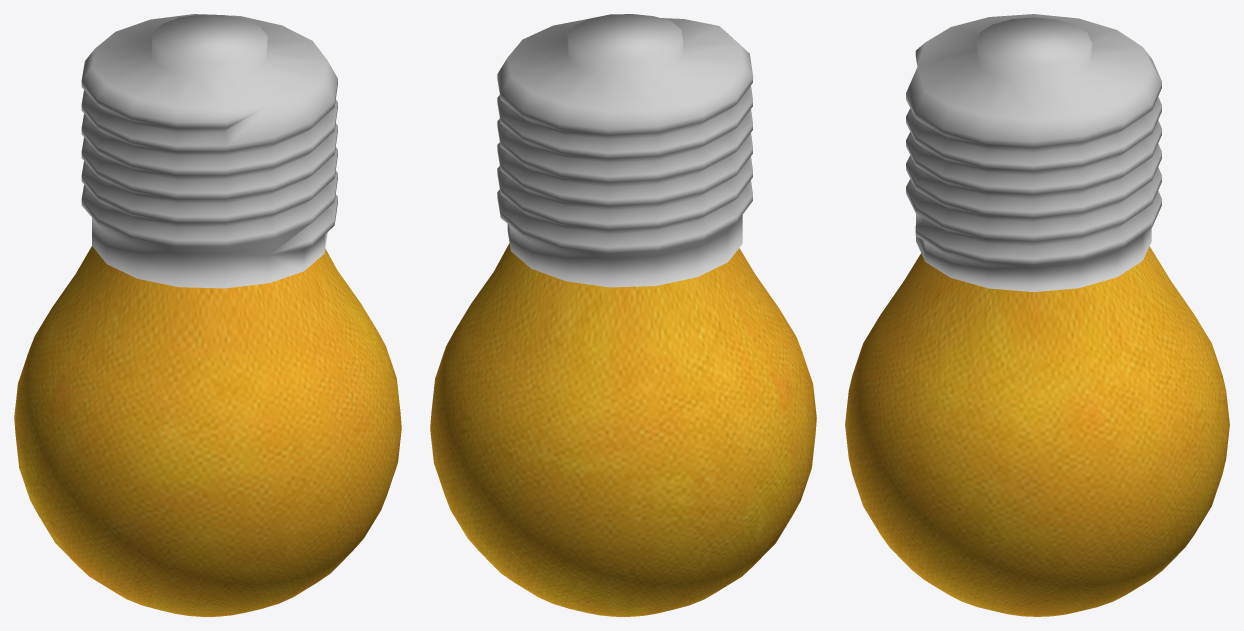
Rendered from lightbulb - 복사본.fbx.
The picture shows the model from 3 angles, left to right: view 1: azimuth 30°, elevation 25°; view 2: azimuth 150°, elevation 25°; view 3: azimuth 270°, elevation 25°; orthographic projection.
Visible parts, largest first — view 1: Sphere, Circle; view 2: Sphere, Circle; view 3: Sphere, Circle.
Boxes of the visible parts, bbox=[...] form: Sphere: bbox=[14, 246, 401, 616]; Circle: bbox=[81, 14, 337, 288]; Sphere: bbox=[430, 243, 816, 616]; Circle: bbox=[497, 14, 753, 287]; Sphere: bbox=[845, 246, 1229, 616]; Circle: bbox=[906, 14, 1161, 291].
Size of the model in its own units: 327 by 523 by 327.
